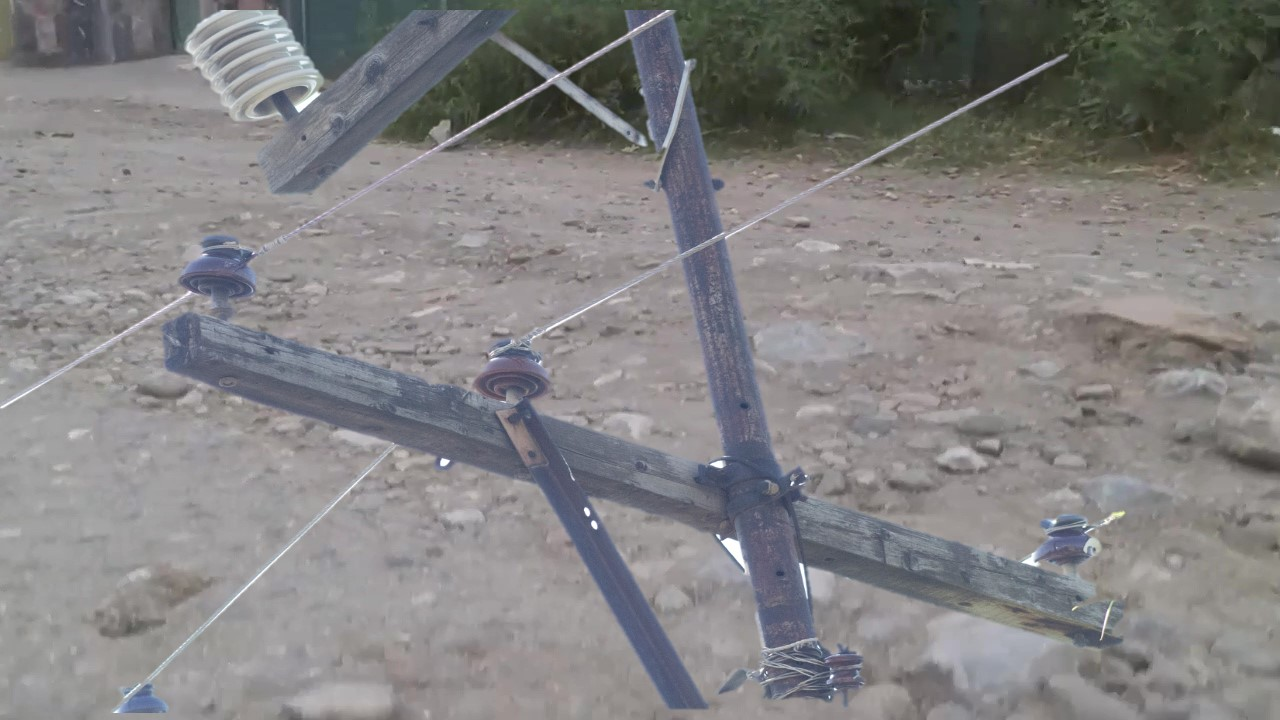defect_pin: (1033, 503, 1107, 567)
insulator_pin: (177, 230, 261, 306), (471, 338, 556, 406)
